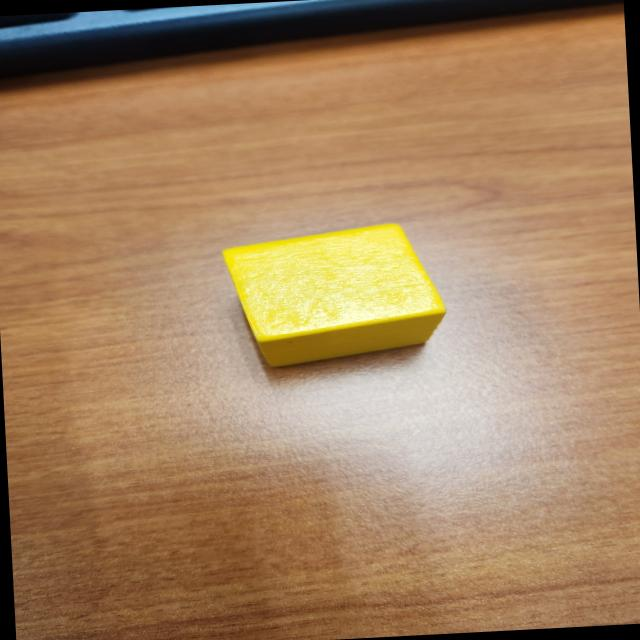yellow: (218, 219, 452, 372)
